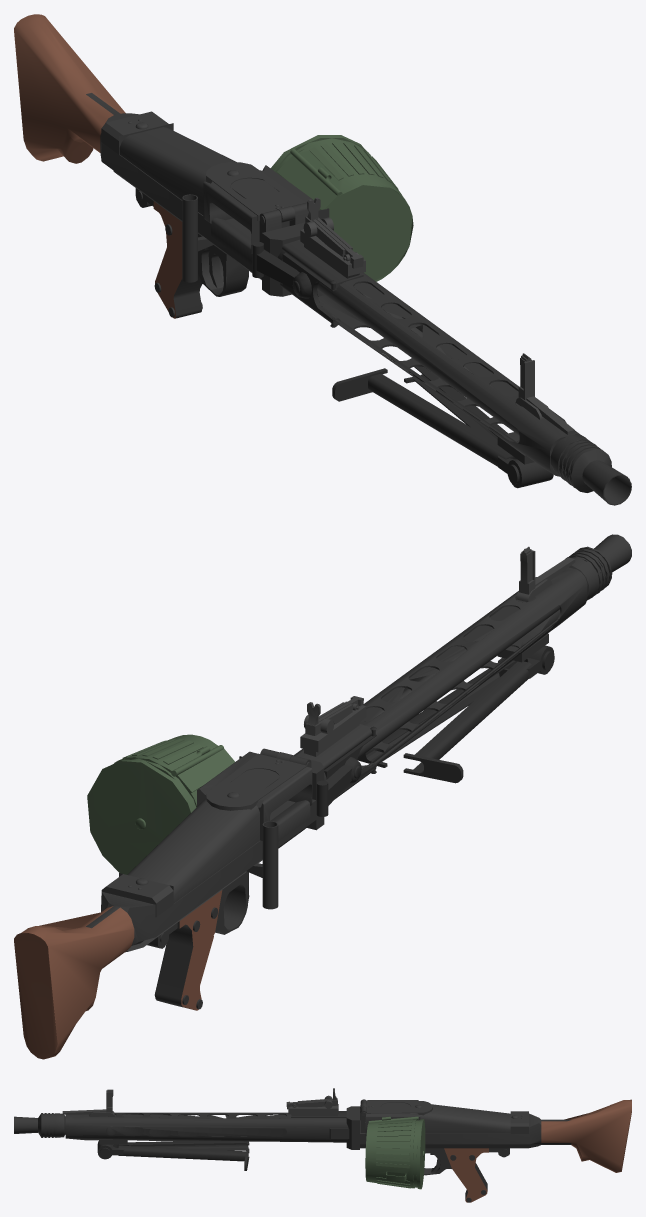
3 renders of one model, top to bottom at view 1: azimuth 30°, elevation 25°; view 2: azimuth 150°, elevation 25°; view 3: azimuth 270°, elevation 25°, orthographic. The views are drawn at different scales.
Visible parts, largest first — view 1: Machinegun, LoadingDoor, DrumMagazine, BipodLeg_right, IronSights, BarrelPort, InternalBarrel, Bolt, BipodLeg_left, Bipod; view 2: Machinegun, LoadingDoor, DrumMagazine, BipodLeg_right, IronSights, InternalBarrel, BipodLeg_left, BarrelPort, Bolt, Bipod; view 3: Machinegun, DrumMagazine, LoadingDoor, BipodLeg_left, IronSights, BipodLeg_right, Bipod.
Boxes of the visible parts, x1=… form: Machinegun: x1=14, y1=14, x2=631, y2=505; LoadingDoor: x1=101, y1=111, x2=329, y2=253; DrumMagazine: x1=270, y1=135, x2=413, y2=281; BipodLeg_right: x1=332, y1=368, x2=513, y2=466; IronSights: x1=300, y1=197, x2=574, y2=434; BarrelPort: x1=252, y1=241, x2=336, y2=327; InternalBarrel: x1=317, y1=282, x2=519, y2=435; Bolt: x1=182, y1=194, x2=214, y2=282; BipodLeg_left: x1=404, y1=366, x2=515, y2=459; Bipod: x1=497, y1=455, x2=553, y2=488; Machinegun: x1=14, y1=534, x2=631, y2=1059; LoadingDoor: x1=101, y1=751, x2=312, y2=917; DrumMagazine: x1=87, y1=734, x2=234, y2=874; BipodLeg_right: x1=403, y1=661, x2=531, y2=783; IronSights: x1=300, y1=546, x2=575, y2=756; InternalBarrel: x1=357, y1=605, x2=559, y2=758; BipodLeg_left: x1=357, y1=658, x2=515, y2=767; BarrelPort: x1=316, y1=726, x2=376, y2=816; Bolt: x1=246, y1=821, x2=278, y2=909; Bipod: x1=498, y1=645, x2=554, y2=678; Machinegun: x1=14, y1=1099, x2=631, y2=1202; DrumMagazine: x1=365, y1=1116, x2=425, y2=1189; LoadingDoor: x1=360, y1=1100, x2=528, y2=1135; BipodLeg_left: x1=118, y1=1145, x2=249, y2=1170; IronSights: x1=62, y1=1088, x2=338, y2=1116; BipodLeg_right: x1=119, y1=1141, x2=249, y2=1152; Bipod: x1=97, y1=1140, x2=130, y2=1159.
Size of the model in its own units: 87.13 by 81.65 by 416.
